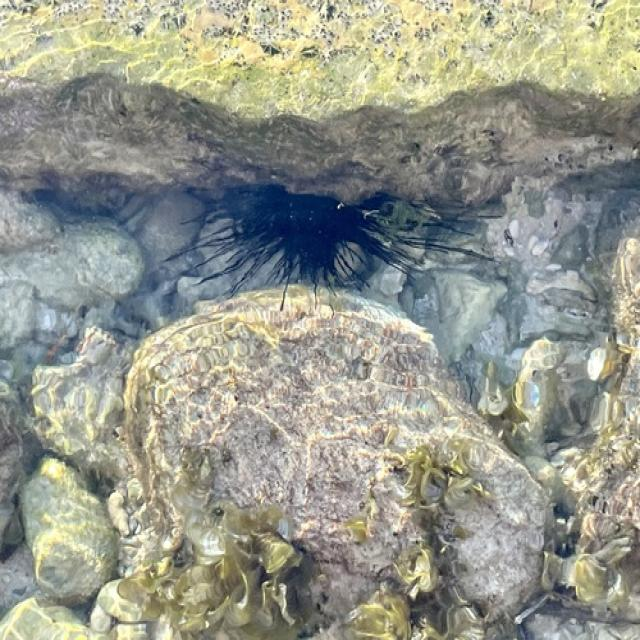Urchin: (173, 162, 500, 319)
